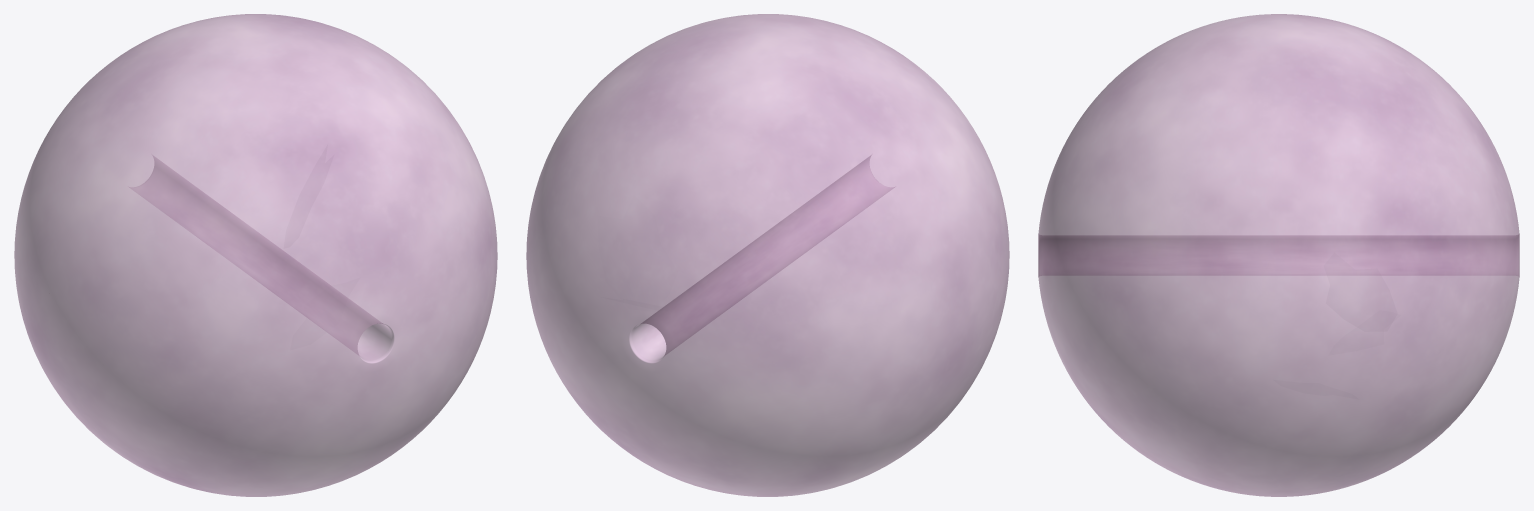
The model's file is kunzite-12mm.glb.
3 views of the same model, side by side, from view 1: azimuth 30°, elevation 25°; view 2: azimuth 150°, elevation 25°; view 3: azimuth 270°, elevation 25° (orthographic).
Parts seen in each view (by area): view 1: kunzite.001; view 2: kunzite.001; view 3: kunzite.001.
Boxes of the visible parts, box(x1,y1,x2,y2) form: kunzite.001: box(14, 14, 497, 496); kunzite.001: box(526, 14, 1009, 496); kunzite.001: box(1038, 14, 1519, 496).
Bounding box in the file's own units: 0.012 × 0.012 × 0.012.
2 materials, 1 textured.
